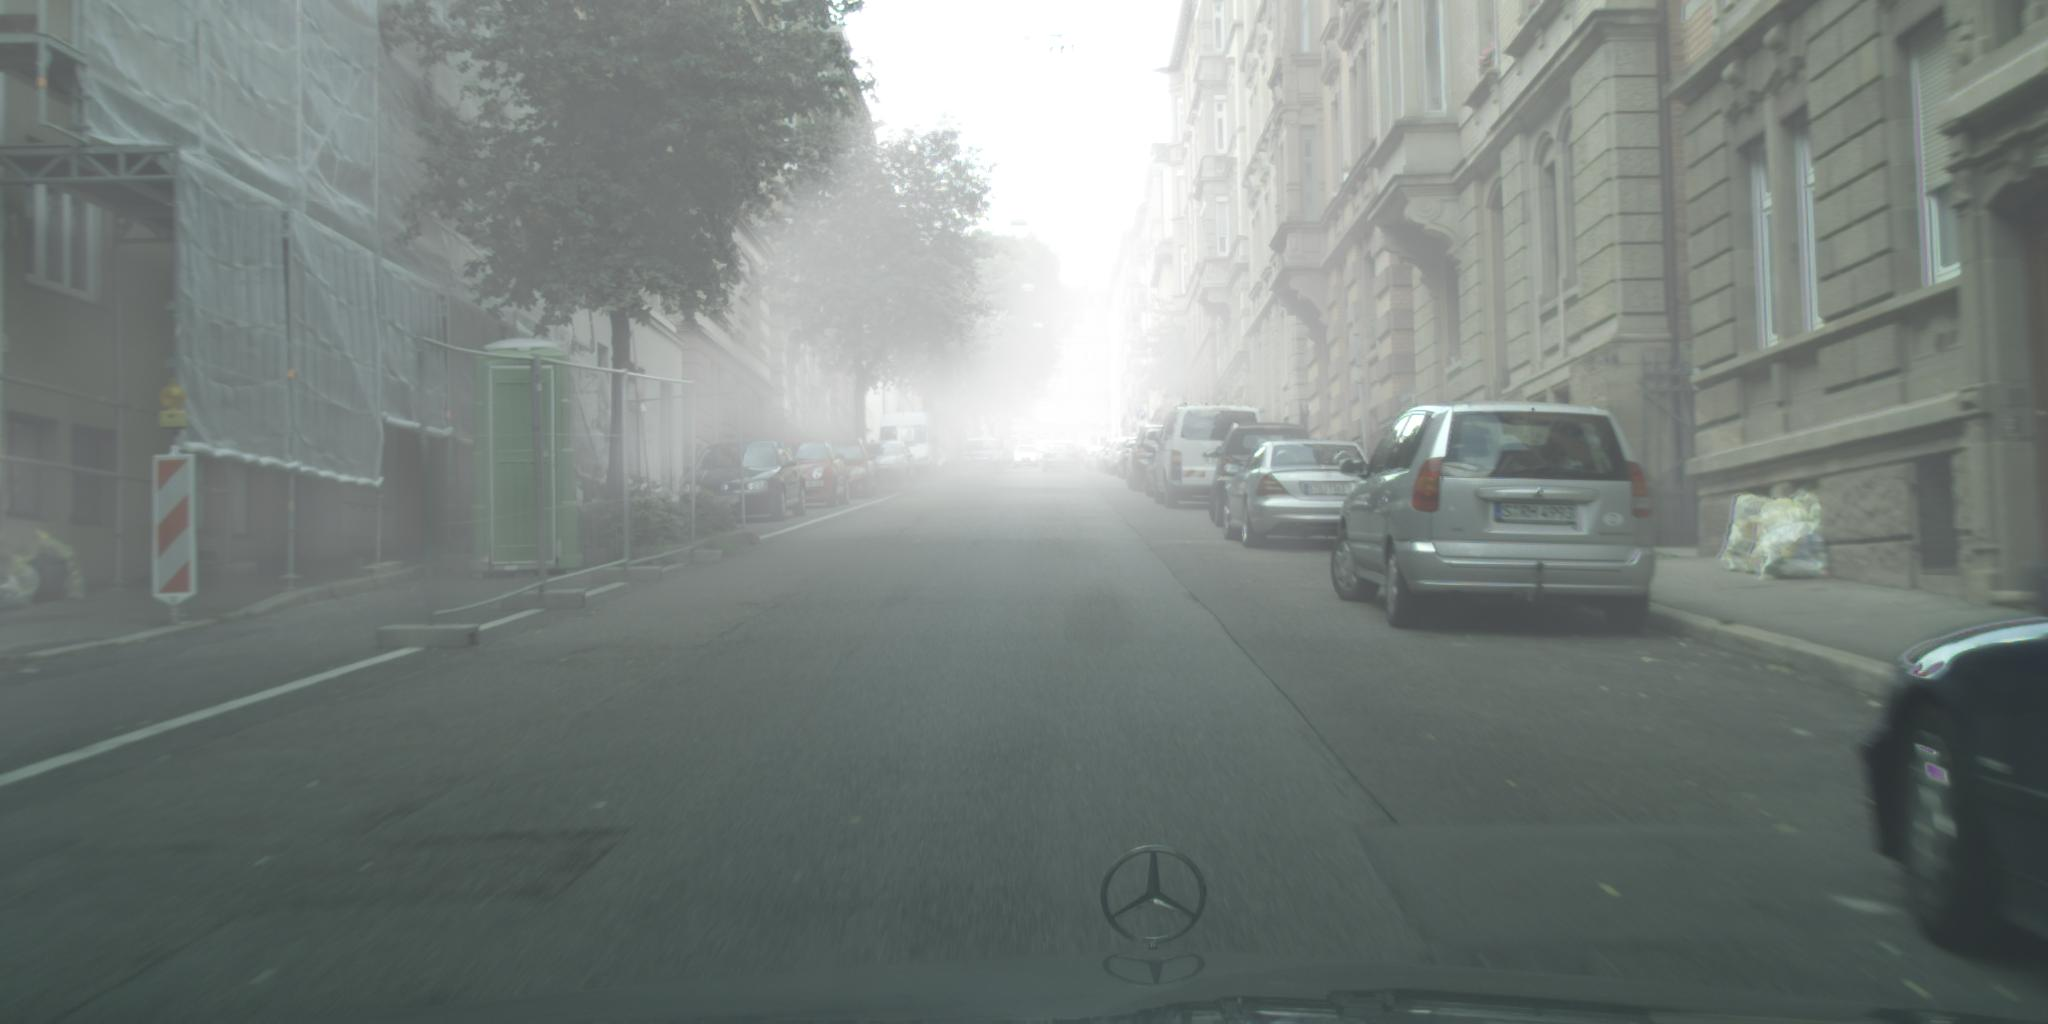car: (1330, 401, 1659, 632), (1856, 613, 2048, 960), (1223, 439, 1377, 550), (1199, 421, 1314, 533), (680, 438, 808, 524), (780, 438, 852, 509), (854, 441, 920, 490), (825, 439, 878, 499), (955, 436, 1010, 478), (1034, 440, 1085, 475), (1000, 441, 1054, 469)
